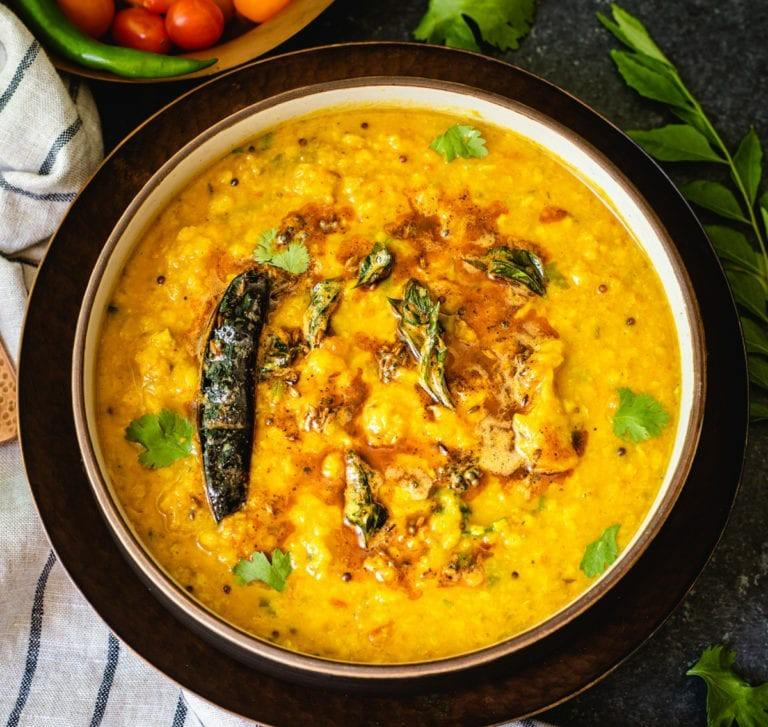Dal: (91, 103, 679, 667)
